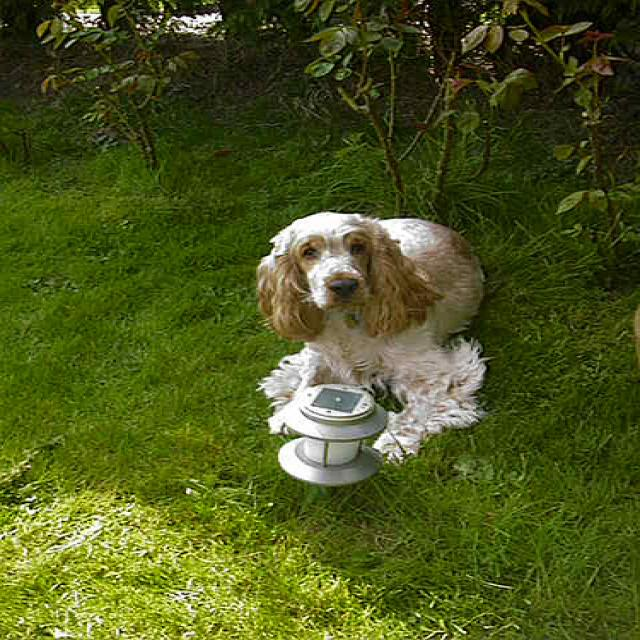dog: (256, 212, 423, 336)
